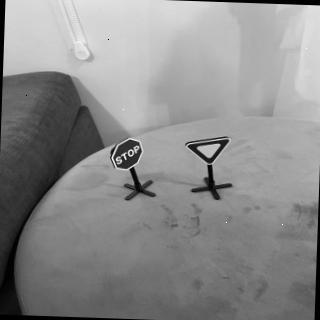sign_stop: (111, 137, 147, 173)
sign_yield: (185, 137, 236, 167)
